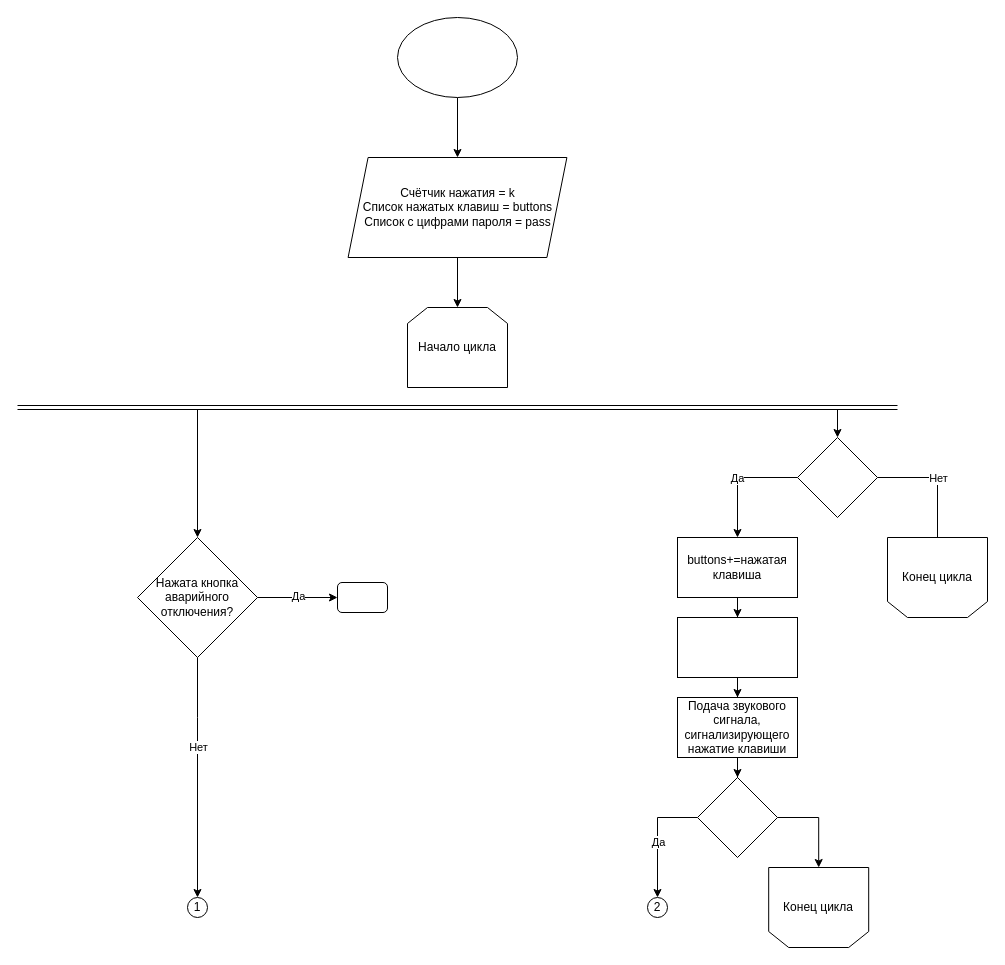
The diagram is 1005 pixels wide and 965 high, and some of its shapes have lost their labels. Here are the shapes that lost their labels. From the top down, the centre of each, then its label:
point (457, 57): Начало
point (837, 477): Клавиша нажата?
point (362, 597): Конец
point (737, 647): k+=1
point (737, 817): k=4?
